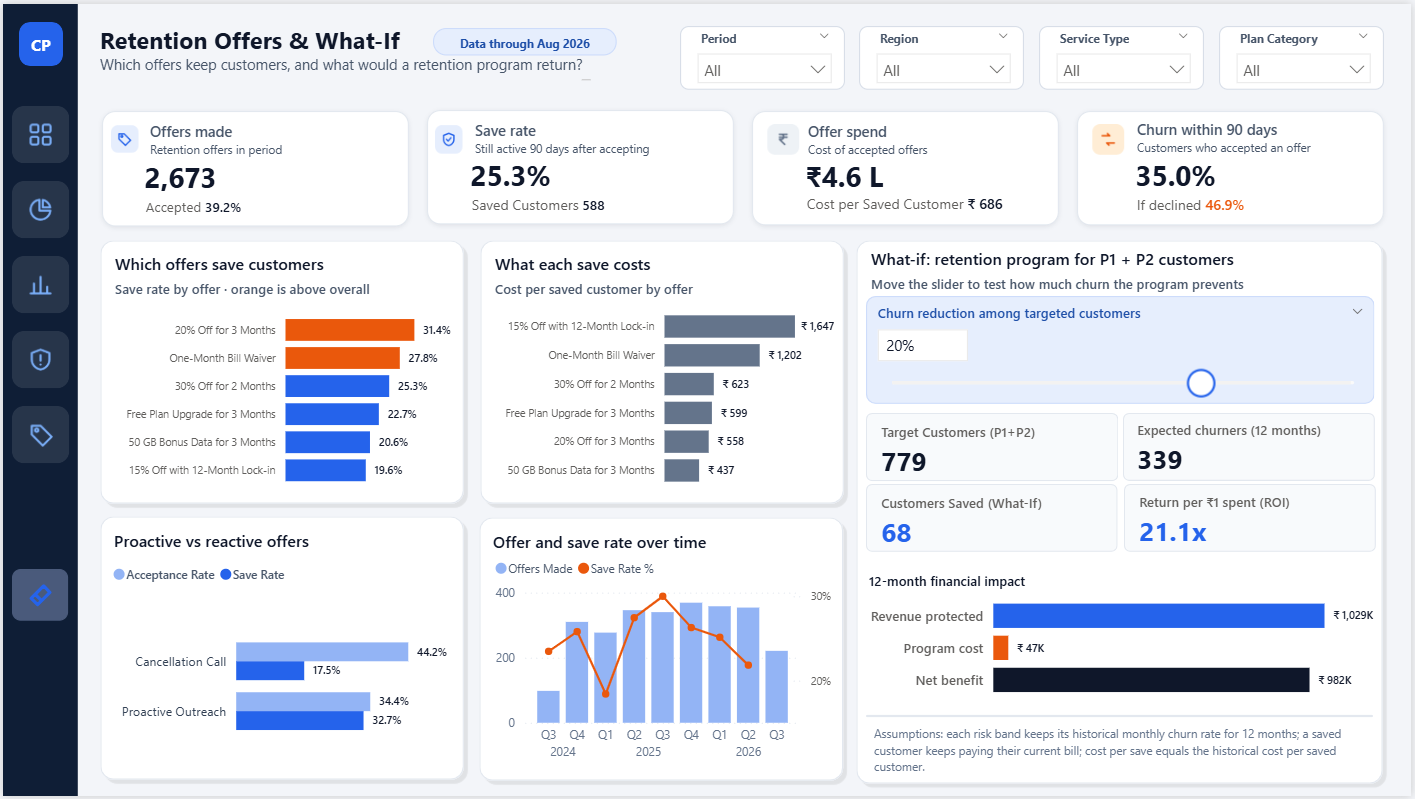

Layout of this report page (visuals, bound fields, positions):
{"tool":"powerbi","page":{"name":"Offers","canvas":[1280,720],"ordinal":4},"visuals":[{"type":"group","id":"g1","title":"Group 3","box":[0,0,68,720],"z":0,"group":"g33"},{"type":"shape","box":[0,0,68,720],"z":0,"group":"g1"},{"type":"group","id":"g2","title":"Group 7","box":[770,209.1,490,505.5],"z":0,"group":"g32"},{"type":"shape","box":[770,209.1,490,505.5],"z":0,"group":"g2"},{"type":"group","id":"g3","title":"Group 8","box":[428,209.3,342,251],"z":0,"group":"g26"},{"type":"group","id":"g4","title":"Group 8","box":[82.7,209.5,342,251],"z":0,"group":"g27"},{"type":"shape","box":[784.9,371.7,229.4,62],"z":0,"group":"g8"},{"type":"shape","box":[1018.3,371.7,229,61.7],"z":0,"group":"g10"},{"type":"shape","box":[1018.8,436.1,229,61.7],"z":0,"group":"g14"},{"type":"shape","box":[784.7,436.7,228.6,61.7],"z":0,"group":"g12"},{"type":"group","id":"g5","title":"Group 8","box":[83,460,342,251],"z":0,"group":"g28"},{"type":"group","id":"g6","title":"Group 8","box":[427.7,460.8,342.3,251],"z":0,"group":"g30"},{"type":"clusteredBarChart","title":"12-month financial impact","fields":{"Category":["Impact Metric.Metric"],"Y":["_Measures.Impact Value"]},"box":[787.3,525.8,458.8,112.9],"z":0,"group":"g16"},{"type":"shape","box":[14,16,40,40],"z":1000,"group":"g18"},{"type":"textbox","title":"Retention Offers & What-If","box":[88,17.9,328.2,30],"z":1000,"group":"g15"},{"type":"group","id":"g7","title":"Group 4","box":[90,97,279,111],"z":1000},{"type":"shape","box":[784.7,265.9,462.4,98.1],"z":1000,"group":"g31"},{"type":"group","id":"g8","title":"Group 12","box":[784.9,371.7,229.1,62.2],"z":1000,"group":"g32"},{"type":"cardVisual","fields":{"Data":["_Measures.Expected Churners 12M (P1+P2)"]},"box":[1019.1,374.1,224,57.2],"z":1000,"group":"g10"},{"type":"cardVisual","fields":{"Data":["_Measures.Target Customers (P1+P2)"]},"box":[787.2,376.9,193.7,56.8],"z":1000,"group":"g8"},{"type":"cardVisual","fields":{"Data":["_Measures.ROI Multiple"]},"box":[1020.6,440.5,193,56.7],"z":1000,"group":"g14"},{"type":"cardVisual","fields":{"Data":["_Measures.Customers Saved (What-If)"]},"box":[787,441.9,193.1,56.6],"z":1000,"group":"g12"},{"type":"textbox","title":"12-month financial impact","box":[787.3,516.4,162.9,18.8],"z":1000,"group":"g16"},{"type":"textbox","title":"Which offers keep customers, and what would a retention program return?","box":[88,45.7,445.9,22.7],"z":2000,"group":"g15"},{"type":"actionButton","box":[8,92,52,52],"z":2000,"group":"g17"},{"type":"group","id":"g9","title":"Group 4","box":[385.5,96.4,279,110.1],"z":2000},{"type":"group","id":"g10","title":"Group 12","box":[1018.3,371.7,229.1,61.7],"z":2000,"group":"g32"},{"type":"cardVisual","fields":{"Data":["_Measures.Badge Text"]},"box":[390.7,21.1,167.3,24.5],"z":3000,"group":"g15"},{"type":"group","id":"g11","title":"Group 4","box":[680.9,97.3,279,108.8],"z":3000},{"type":"actionButton","box":[8,160.2,52,52],"z":3000,"group":"g17"},{"type":"shape","box":[428,209.3,342,251],"z":3000,"group":"g3"},{"type":"shape","box":[82.7,209.5,342,251],"z":3000,"group":"g4"},{"type":"textbox","title":"What each save costs","box":[446.8,226,271.4,42.3],"z":3000,"group":"g26"},{"type":"textbox","title":"Which offers save customers","box":[101.5,226.2,271.4,42.3],"z":3000,"group":"g27"},{"type":"group","id":"g12","title":"Group 12","box":[784.7,436.7,229,61.9],"z":3000,"group":"g32"},{"type":"shape","box":[83,460,342,251],"z":3000,"group":"g5"},{"type":"shape","box":[427.7,460.8,342.3,251],"z":3000,"group":"g6"},{"type":"textbox","title":"Proactive vs reactive offers","box":[101.1,476.8,201.2,20.9],"z":3000,"group":"g28"},{"type":"textbox","title":"Offer and save rate over time","box":[446,477.7,199.3,21.1],"z":3000,"group":"g30"},{"type":"group","id":"g13","title":"Group 4","box":[976.4,97.3,279,109.6],"z":4000},{"type":"actionButton","box":[8,228.5,52,52],"z":4000,"group":"g17"},{"type":"group","id":"g14","title":"Group 12","box":[1018.8,436.1,228.7,61.7],"z":4000,"group":"g32"},{"type":"group","id":"g15","title":"Group 5","box":[88,17.9,470,50.5],"z":5000},{"type":"actionButton","box":[8,296.8,52,52],"z":5000,"group":"g17"},{"type":"group","id":"g16","title":"Group 13","box":[787.3,516.4,458.2,122.7],"z":5000,"group":"g32"},{"type":"slicer","fields":{"Values":["Customer_Priority.risk_band"]},"box":[615,20,150,58],"z":6000},{"type":"textbox","title":"What-if: retention program for P1 + P2 customers","box":[789,220.6,390,43.5],"z":6000,"group":"g2"},{"type":"actionButton","box":[8,365,52,52],"z":6000,"group":"g17"},{"type":"textbox","box":[791.8,655.5,460.9,47.3],"z":6000,"group":"g32"},{"type":"group","id":"g17","title":"Group 1","box":[8,92,52,325],"z":6001,"group":"g18"},{"type":"group","id":"g18","title":"Group 2","box":[8,16,52,401],"z":6002,"group":"g1"},{"type":"slicer","fields":{"Values":["Customer_Priority.region_name"]},"box":[778.4,20,150,58],"z":7000},{"type":"shape","box":[784.5,639.1,460.9,16.4],"z":7000,"group":"g32"},{"type":"slicer","fields":{"Values":["Customer_Priority.service_type"]},"box":[941.9,20,150,58],"z":8000},{"type":"slicer","fields":{"Values":["Customer_Priority.plan_category"]},"box":[1105.3,20,150,58],"z":9000},{"type":"group","id":"g19","title":"Group 10","box":[428,209.3,342,251],"z":10000,"group":"g24"},{"type":"group","id":"g20","title":"Group 6","box":[82.7,209.5,342,251],"z":10000},{"type":"group","id":"g21","title":"Group 10","box":[82.7,209.5,342,251],"z":10000,"group":"g20"},{"type":"group","id":"g22","title":"Group 10","box":[83,460,342,251],"z":10000,"group":"g25"},{"type":"group","id":"g23","title":"Group 10","box":[427.7,460.8,342.3,251],"z":10000,"group":"g29"},{"type":"group","id":"g24","title":"Group 6","box":[428,209.3,342,250.7],"z":11000},{"type":"clusteredBarChart","fields":{"Category":["Dim_Offers.offer_name"],"Y":["_Measures.Cost per Saved Customer"]},"box":[446.5,264.7,309.2,180.8],"z":11000,"group":"g24"},{"type":"clusteredBarChart","fields":{"Category":["Dim_Offers.offer_name"],"Y":["_Measures.Save Rate %"]},"box":[101.6,268.8,305.1,176.5],"z":11000,"group":"g20"},{"type":"clusteredBarChart","fields":{"Y":["_Measures.Offer Acceptance %","_Measures.Save Rate %"],"Category":["Fact_Retention_Offer.trigger_type"]},"box":[100.1,504.3,306.4,197.9],"z":11000,"group":"g25"},{"type":"group","id":"g25","title":"Group 6","box":[83,460,342,251],"z":12000},{"type":"group","id":"g26","title":"Group 9","box":[428,209.3,342,251],"z":13000,"group":"g19"},{"type":"group","id":"g27","title":"Group 9","box":[82.7,209.5,342,251],"z":13000,"group":"g21"},{"type":"group","id":"g28","title":"Group 9","box":[83,460,342,251],"z":13000,"group":"g22"},{"type":"group","id":"g29","title":"Group 6","box":[427.7,460.8,342.3,250.8],"z":13000},{"type":"group","id":"g30","title":"Group 9","box":[427.7,460.8,342.3,251],"z":13000,"group":"g23"},{"type":"lineClusteredColumnComboChart","fields":{"Category":["Dim_Date.year_number","Dim_Date.quarter_label"],"Y":["_Measures.Offers Made"],"Y2":["_Measures.Save Rate %"]},"box":[447,499,308,198],"z":14000},{"type":"actionButton","box":[8,514,51,47],"z":15000,"group":"g33"},{"type":"shape","box":[385.5,96.4,279,104],"z":16000,"group":"g9"},{"type":"shape","box":[90,97,279,104.6],"z":16000,"group":"g7"},{"type":"shape","box":[680.9,97.3,279,104.4],"z":16000,"group":"g11"},{"type":"shape","box":[976.4,97.3,279,104.4],"z":16000,"group":"g13"},{"type":"cardVisual","fields":{"Data":["_Measures.Save Rate %"]},"box":[409.6,131.7,158.2,74.7],"z":17000,"group":"g9"},{"type":"cardVisual","fields":{"Data":["_Measures.Churn within 90d if Accepted %"]},"box":[1013.4,132.1,136.8,74.8],"z":17000,"group":"g13"},{"type":"cardVisual","fields":{"Data":["_Measures.Offer Spend Text"]},"box":[713.5,132.5,240.9,73.6],"z":17000,"group":"g11"},{"type":"cardVisual","fields":{"Data":["_Measures.Offers Made"]},"box":[112.6,133.8,135.6,74.2],"z":17000,"group":"g7"},{"type":"image","box":[97.9,108,25.1,29.5],"z":18000,"group":"g7"},{"type":"image","box":[393,109.3,25.4,28.4],"z":18000,"group":"g9"},{"type":"image","box":[691.4,109.4,35.2,28.3],"z":18000,"group":"g11"},{"type":"image","box":[986.9,109.4,35.2,28.3],"z":18000,"group":"g13"},{"type":"slicer","fields":{"Values":["Churn Reduction %.Churn Reduction %"]},"box":[787.1,273.1,456.7,88.1],"z":18000,"group":"g31"},{"type":"group","id":"g31","title":"Group 11","box":[784.7,265.9,462.4,98.1],"z":18002,"group":"g2"},{"type":"textbox","title":"Churn within 90 days","box":[1030.6,105.8,161.8,31.4],"z":19000,"group":"g13"},{"type":"textbox","title":"Save rate","box":[428.7,106.7,162.6,32.2],"z":19000,"group":"g9"},{"type":"textbox","title":"Offers made","box":[133.9,107,143.5,31.7],"z":19000,"group":"g7"},{"type":"textbox","title":"Offer spend","box":[731.4,107,137.6,32.1],"z":19000,"group":"g11"},{"type":"group","id":"g32","title":"Group 14","box":[770,209.1,490,505.5],"z":19006},{"type":"group","id":"g33","title":"Group 15","box":[0,0,68,720],"z":19007}]}

Visuals, with their boxes on the page's 1280x720 design canvas (x1, y1, x2, y2). These are canvas units, not pixel positions in the 1415x799 screenshot, which may show the page scaled, cropped or inside an application window:
"Group 3" group: (0,0,68,720)
shape: (0,0,68,720)
"Group 7" group: (770,209,1260,715)
shape: (770,209,1260,715)
"Group 8" group: (428,209,770,460)
"Group 8" group: (83,210,425,460)
shape: (785,372,1014,434)
shape: (1018,372,1247,433)
shape: (1019,436,1248,498)
shape: (785,437,1013,498)
"Group 8" group: (83,460,425,711)
"Group 8" group: (428,461,770,712)
"12-month financial impact" clusteredBarChart: (787,526,1246,639)
shape: (14,16,54,56)
"Retention Offers & What-If" textbox: (88,18,416,48)
"Group 4" group: (90,97,369,208)
shape: (785,266,1247,364)
"Group 12" group: (785,372,1014,434)
cardVisual - _Measures.Expected Churners 12M (P1+P2): (1019,374,1243,431)
cardVisual - _Measures.Target Customers (P1+P2): (787,377,981,434)
cardVisual - _Measures.ROI Multiple: (1021,440,1214,497)
cardVisual - _Measures.Customers Saved (What-If): (787,442,980,498)
"12-month financial impact" textbox: (787,516,950,535)
"Which offers keep customers, and what would a retention program return?" textbox: (88,46,534,68)
actionButton: (8,92,60,144)
"Group 4" group: (386,96,664,206)
"Group 12" group: (1018,372,1247,433)
cardVisual - _Measures.Badge Text: (391,21,558,46)
"Group 4" group: (681,97,960,206)
actionButton: (8,160,60,212)
shape: (428,209,770,460)
shape: (83,210,425,460)
"What each save costs" textbox: (447,226,718,268)
"Which offers save customers" textbox: (102,226,373,268)
"Group 12" group: (785,437,1014,499)
shape: (83,460,425,711)
shape: (428,461,770,712)
"Proactive vs reactive offers" textbox: (101,477,302,498)
"Offer and save rate over time" textbox: (446,478,645,499)
"Group 4" group: (976,97,1255,207)
actionButton: (8,228,60,280)
"Group 12" group: (1019,436,1248,498)
"Group 5" group: (88,18,558,68)
actionButton: (8,297,60,349)
"Group 13" group: (787,516,1246,639)
slicer - Customer_Priority.risk_band: (615,20,765,78)
"What-if: retention program for P1 + P2 customers" textbox: (789,221,1179,264)
actionButton: (8,365,60,417)
textbox: (792,656,1253,703)
"Group 1" group: (8,92,60,417)
"Group 2" group: (8,16,60,417)
slicer - Customer_Priority.region_name: (778,20,928,78)
shape: (784,639,1245,656)
slicer - Customer_Priority.service_type: (942,20,1092,78)
slicer - Customer_Priority.plan_category: (1105,20,1255,78)
"Group 10" group: (428,209,770,460)
"Group 6" group: (83,210,425,460)
"Group 10" group: (83,210,425,460)
"Group 10" group: (83,460,425,711)
"Group 10" group: (428,461,770,712)
"Group 6" group: (428,209,770,460)
clusteredBarChart - Dim_Offers.offer_name x _Measures.Cost per Saved Customer: (446,265,756,446)
clusteredBarChart - Dim_Offers.offer_name x _Measures.Save Rate %: (102,269,407,445)
clusteredBarChart - _Measures.Offer Acceptance % x _Measures.Save Rate %: (100,504,406,702)
"Group 6" group: (83,460,425,711)
"Group 9" group: (428,209,770,460)
"Group 9" group: (83,210,425,460)
"Group 9" group: (83,460,425,711)
"Group 6" group: (428,461,770,712)
"Group 9" group: (428,461,770,712)
lineClusteredColumnComboChart - Dim_Date.year_number x Dim_Date.quarter_label: (447,499,755,697)
actionButton: (8,514,59,561)
shape: (386,96,664,200)
shape: (90,97,369,202)
shape: (681,97,960,202)
shape: (976,97,1255,202)
cardVisual - _Measures.Save Rate %: (410,132,568,206)
cardVisual - _Measures.Churn within 90d if Accepted %: (1013,132,1150,207)
cardVisual - _Measures.Offer Spend Text: (714,132,954,206)
cardVisual - _Measures.Offers Made: (113,134,248,208)
image: (98,108,123,138)
image: (393,109,418,138)
image: (691,109,727,138)
image: (987,109,1022,138)
slicer - Churn Reduction %.Churn Reduction %: (787,273,1244,361)
"Group 11" group: (785,266,1247,364)
"Churn within 90 days" textbox: (1031,106,1192,137)
"Save rate" textbox: (429,107,591,139)
"Offers made" textbox: (134,107,277,139)
"Offer spend" textbox: (731,107,869,139)
"Group 14" group: (770,209,1260,715)
"Group 15" group: (0,0,68,720)
